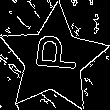P_W: (27, 38, 80, 80)
